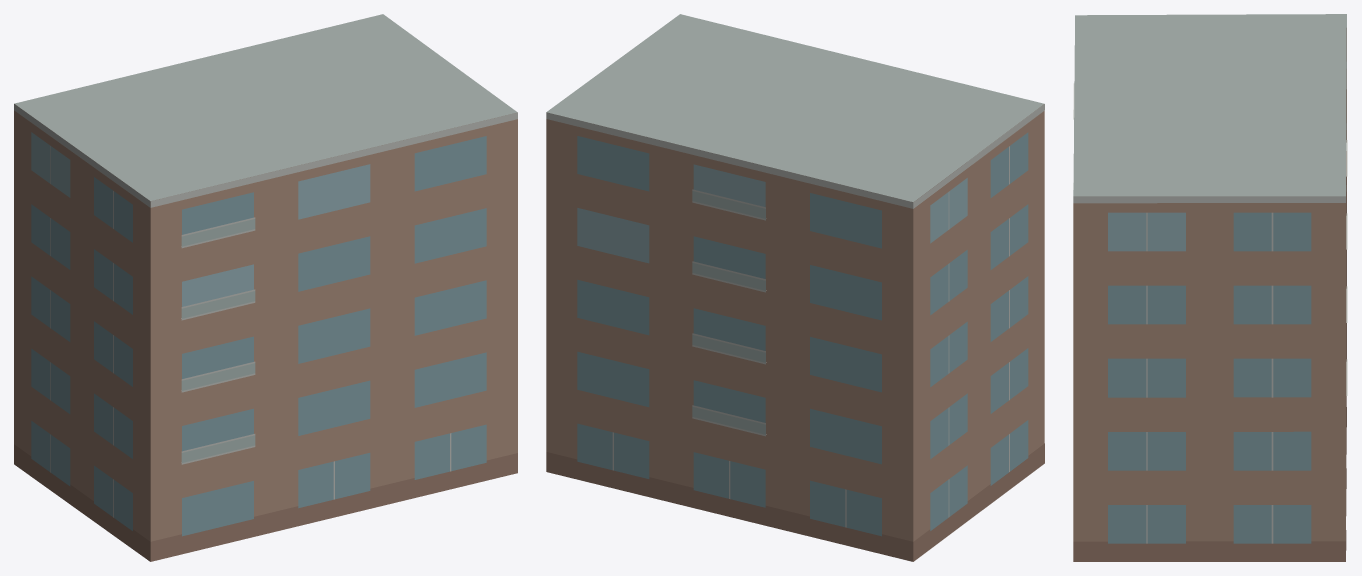
Rendered from survey-upis-32981080.glb.
The picture shows the model from 3 angles, left to right: view 1: azimuth 30°, elevation 25°; view 2: azimuth 150°, elevation 25°; view 3: azimuth 270°, elevation 25°; orthographic projection.
Parts seen in each view (by area): view 1: survey-upis-32981080.tmp; view 2: survey-upis-32981080.tmp; view 3: survey-upis-32981080.tmp.
Boxes of the visible parts, <box> form: survey-upis-32981080.tmp: <box>14,14,517,561</box>; survey-upis-32981080.tmp: <box>546,14,1044,561</box>; survey-upis-32981080.tmp: <box>1073,14,1347,561</box>.
Size of the model in its own units: 14.03 by 13.1 by 8.92.
